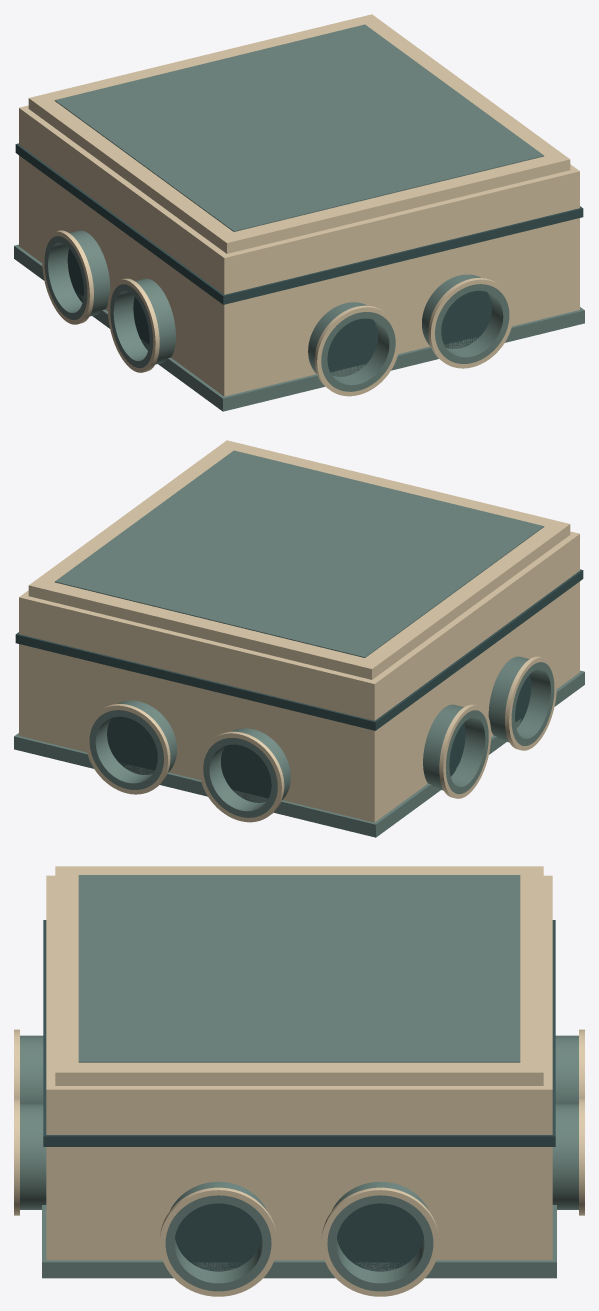
Rendered from Tube_Connector_2x2.glb.
The picture shows the model from 3 angles, top to bottom: view 1: azimuth 30°, elevation 25°; view 2: azimuth 150°, elevation 25°; view 3: azimuth 270°, elevation 25°; orthographic projection. The views are drawn at different scales.
Parts seen in each view (by area): view 1: Tube_Connector_2x2; view 2: Tube_Connector_2x2; view 3: Tube_Connector_2x2.
Boxes of the visible parts, x1,y1,x2,y2 form: Tube_Connector_2x2: (14,14,584,411); Tube_Connector_2x2: (14,440,584,837); Tube_Connector_2x2: (14,866,584,1296).
Size of the model in its own units: 3.88 by 1.56 by 3.88.
